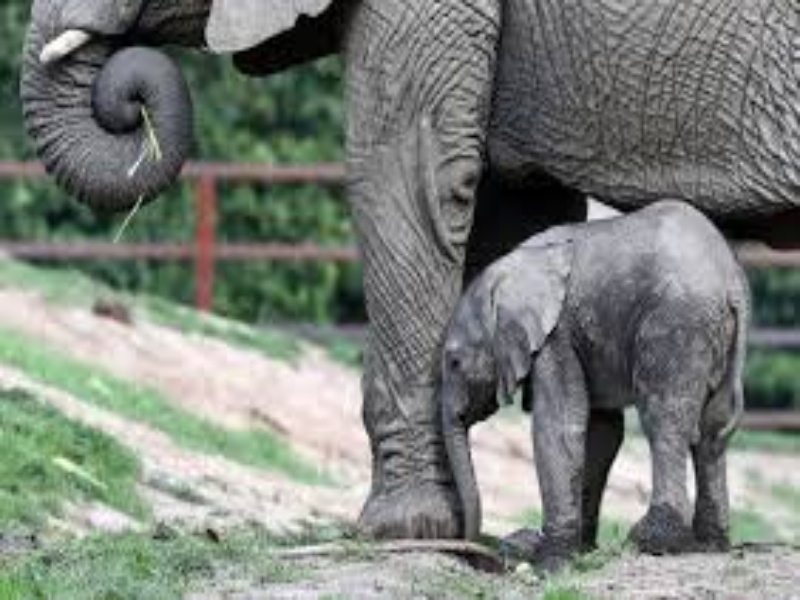elephant: (430, 201, 742, 543)
